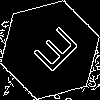E: (25, 25, 81, 81)
